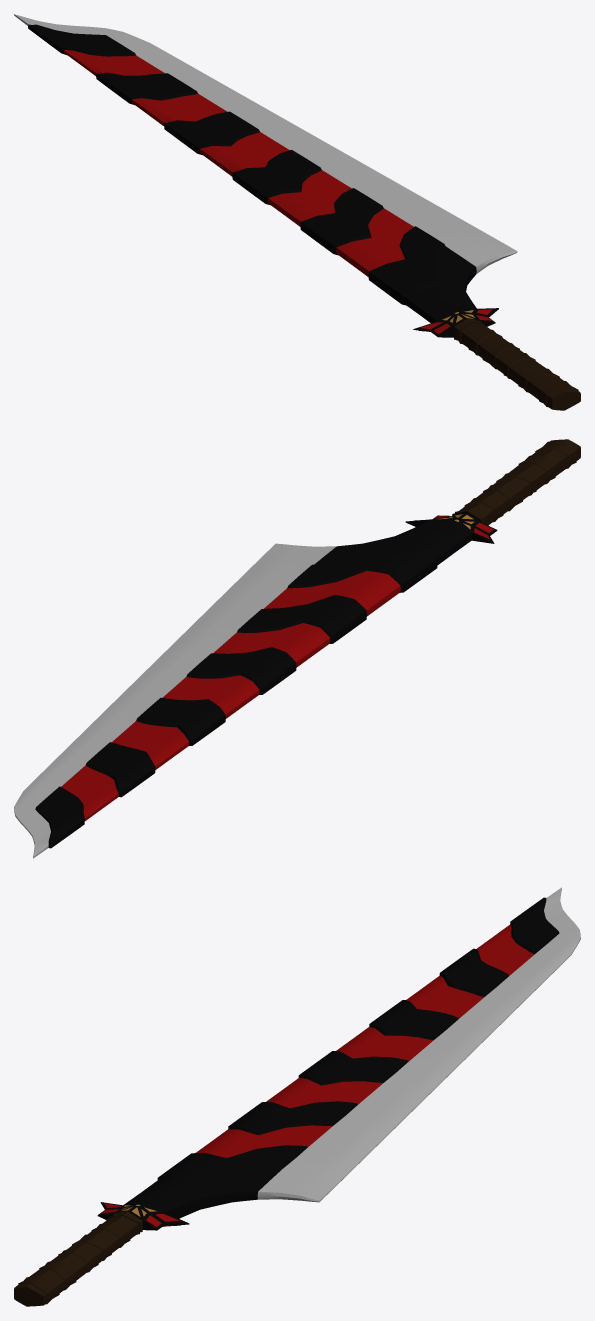
Rendered from long_sword.fbx.
3 views of the same model, one above another, from view 1: azimuth 30°, elevation 25°; view 2: azimuth 150°, elevation 25°; view 3: azimuth 330°, elevation 25° (orthographic). The views are drawn at different scales.
Visible parts, largest first — view 1: long sword; view 2: long sword; view 3: long sword.
Boxes of the visible parts, x1,y1,x2,y2 form: long sword: (14,14,580,410); long sword: (14,439,580,858); long sword: (14,887,580,1306).
Size of the model in its own units: 2673 by 363 by 15654.
